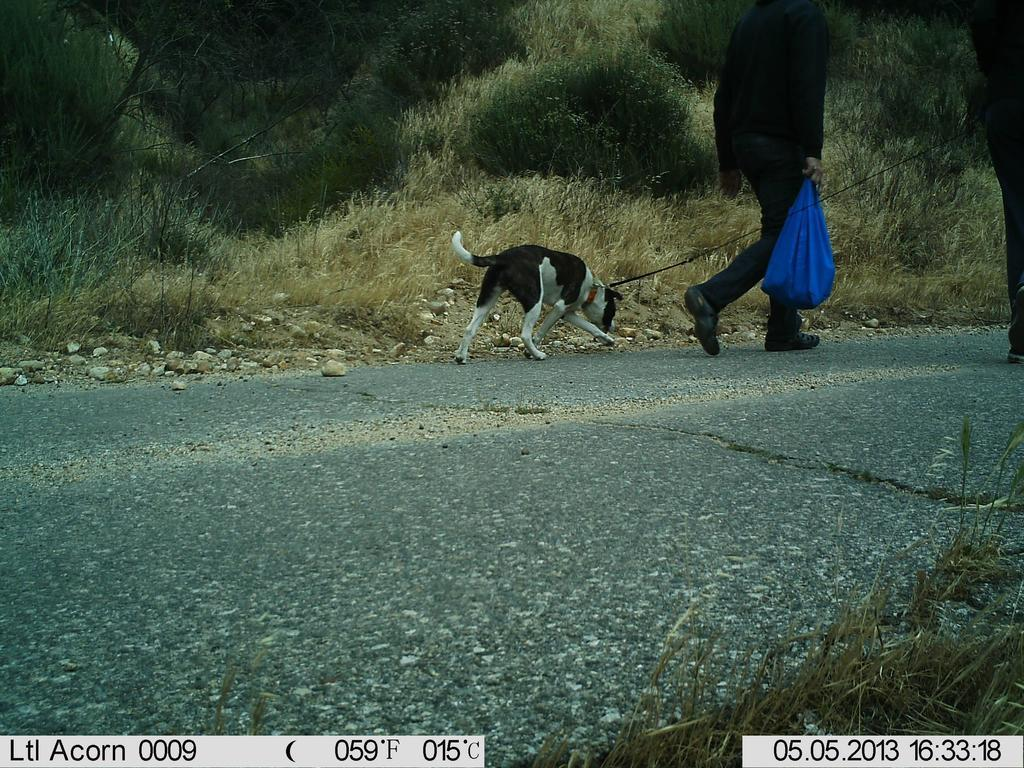dog: (442, 226, 629, 368)
